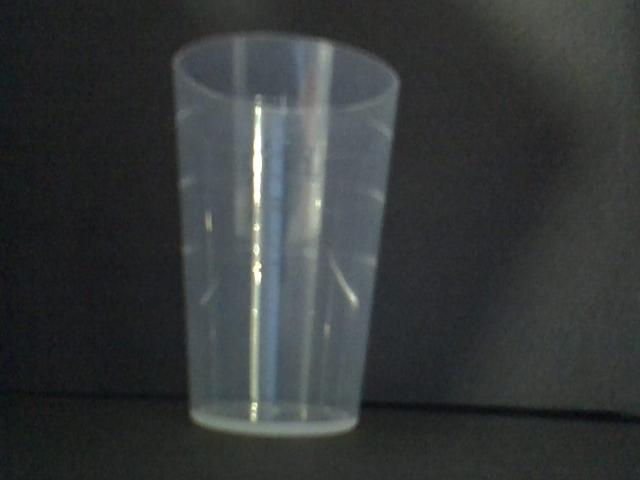cup: (166, 32, 400, 436)
